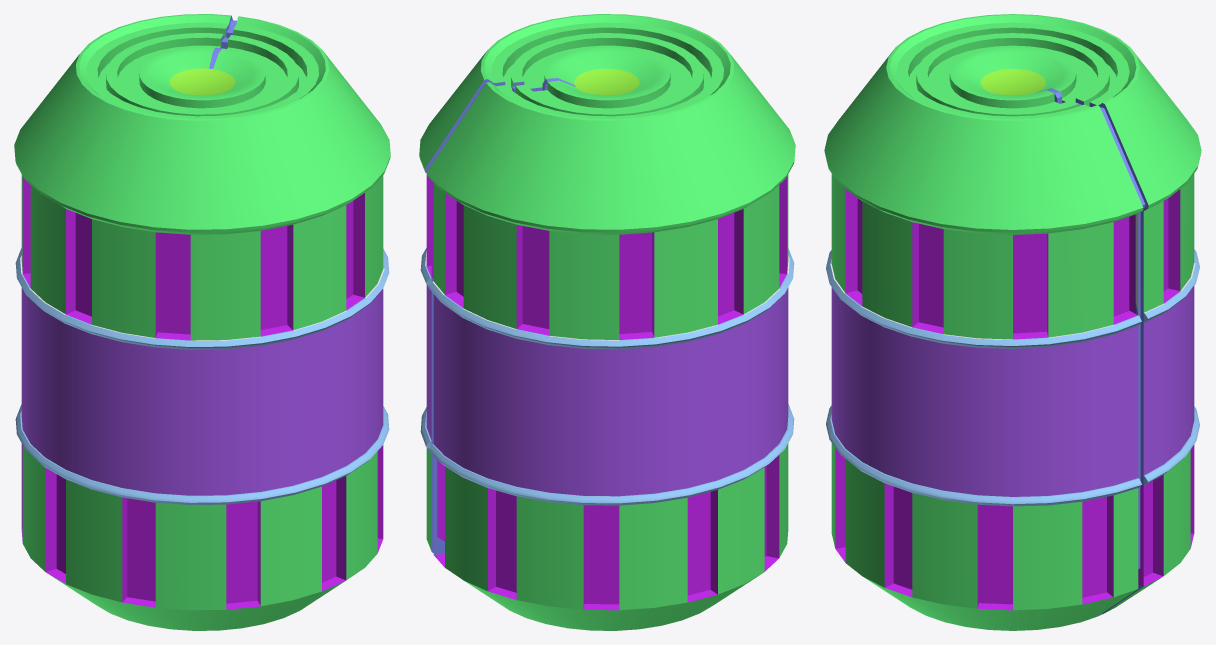
The model's file is pickupItem 1.fbx.
3 views of the same model, side by side, from view 1: azimuth 30°, elevation 25°; view 2: azimuth 150°, elevation 25°; view 3: azimuth 270°, elevation 25° (orthographic).
Parts seen in each view (by area): view 1: pick_up_item; view 2: pick_up_item; view 3: pick_up_item.
Boxes of the visible parts, x1,y1,x2,y2 form: pick_up_item: (14, 14, 390, 630); pick_up_item: (419, 14, 795, 630); pick_up_item: (824, 14, 1201, 630).
Bounding box in the file's own units: 2.08 × 3.12 × 2.08.
